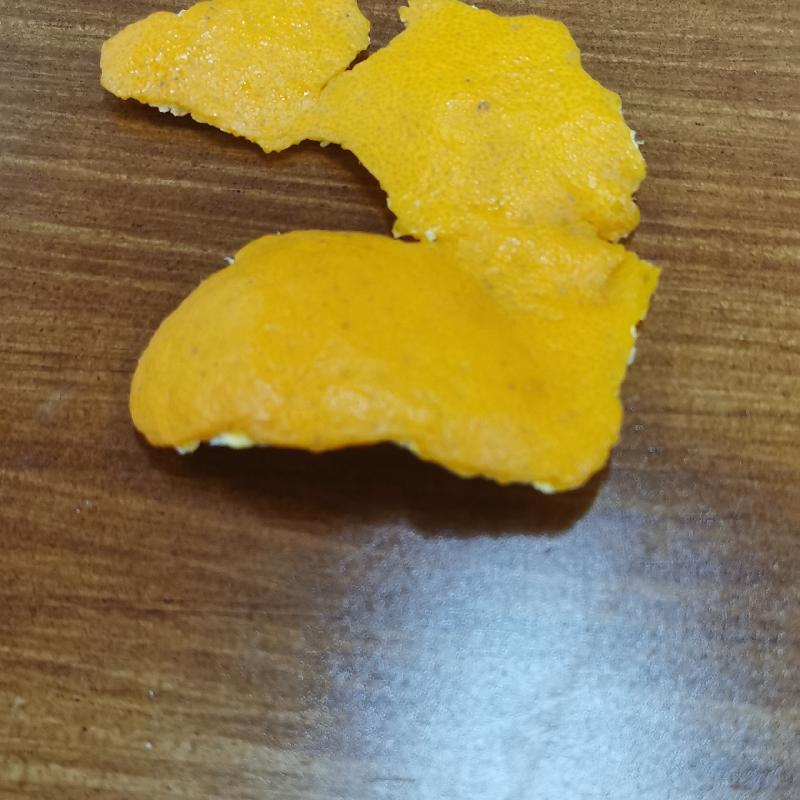orange: (98, 9, 667, 500)
